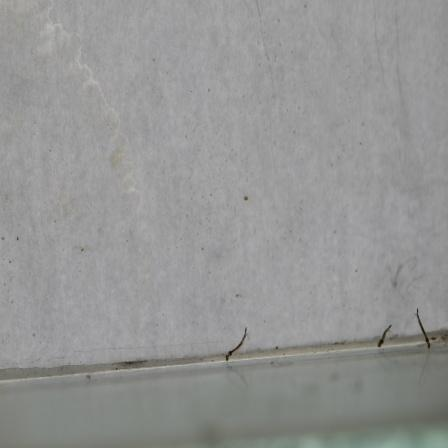Jentik-Nyamuk: (412, 307, 435, 350), (222, 326, 250, 361), (374, 323, 395, 351)
